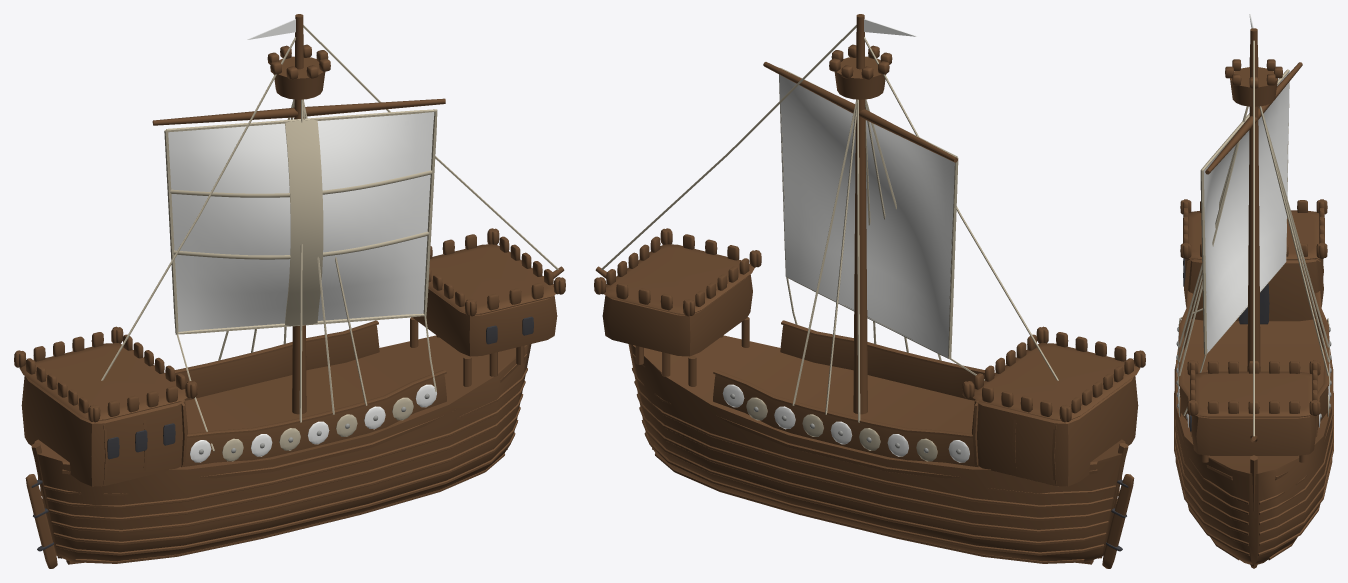
The model's file is ship.glb.
3 views of the same model, side by side, from view 1: azimuth 30°, elevation 25°; view 2: azimuth 150°, elevation 25°; view 3: azimuth 270°, elevation 25° (orthographic). The views are drawn at different scales.
Visible parts, largest first — view 1: Ship_Sail, Ship_Hull, Ship_Castles, Ship_Rails, Ship_Mast, Ship_Rigging; view 2: Ship_Hull, Ship_Castles, Ship_Sail, Ship_Rails, Ship_Mast, Ship_Rigging; view 3: Ship_Hull, Ship_Castles, Ship_Sail, Ship_Mast, Ship_Rigging, Ship_Rails.
Part boxes in pixels (x1,y1,x2,y2): Ship_Sail: (164,109,437,334); Ship_Hull: (31,335,531,564); Ship_Castles: (14,228,565,568); Ship_Rails: (175,320,446,467); Ship_Mast: (152,14,445,414); Ship_Rigging: (101,25,558,451); Ship_Hull: (628,335,1128,564); Ship_Castles: (594,228,1145,568); Ship_Sail: (779,67,958,359); Ship_Rails: (713,320,984,467); Ship_Mast: (763,14,957,414); Ship_Rigging: (601,25,1058,422); Ship_Hull: (1174,319,1333,568); Ship_Castles: (1180,199,1327,462); Ship_Sail: (1200,69,1289,354); Ship_Mast: (1205,14,1302,371); Ship_Rigging: (1177,40,1330,436); Ship_Rails: (1176,291,1331,436).
Bounding box in the file's own units: 16.31 × 14.44 × 4.58.
